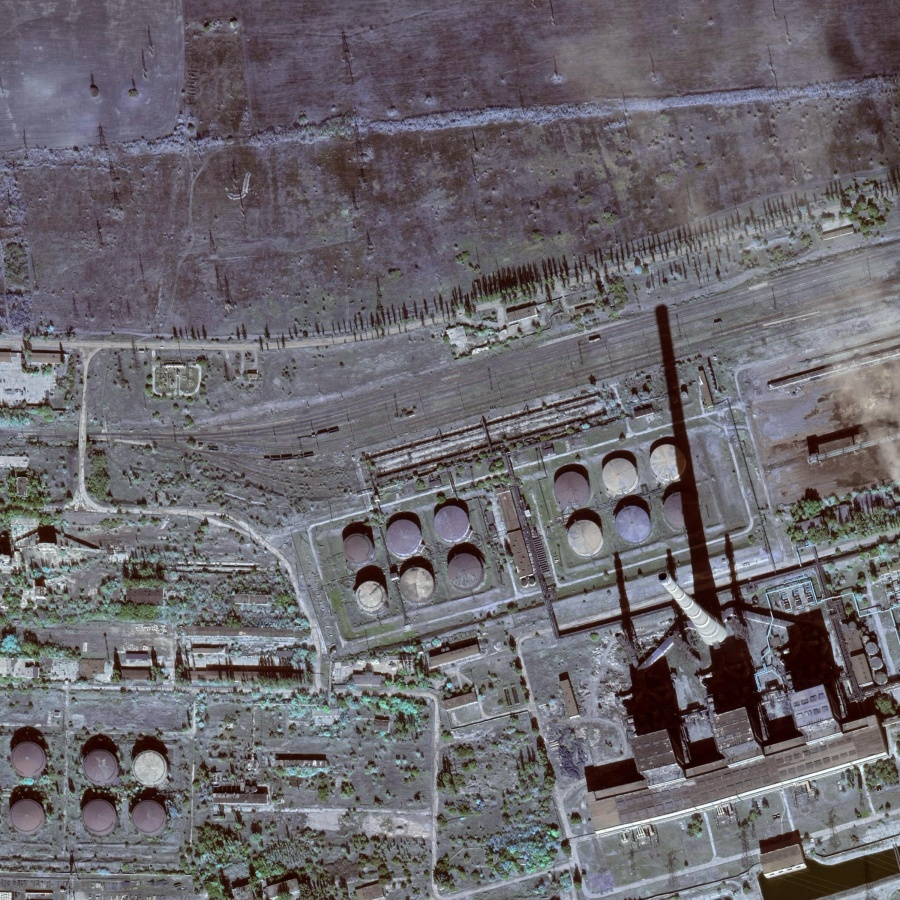PowerPlant: (304, 475, 512, 651)
